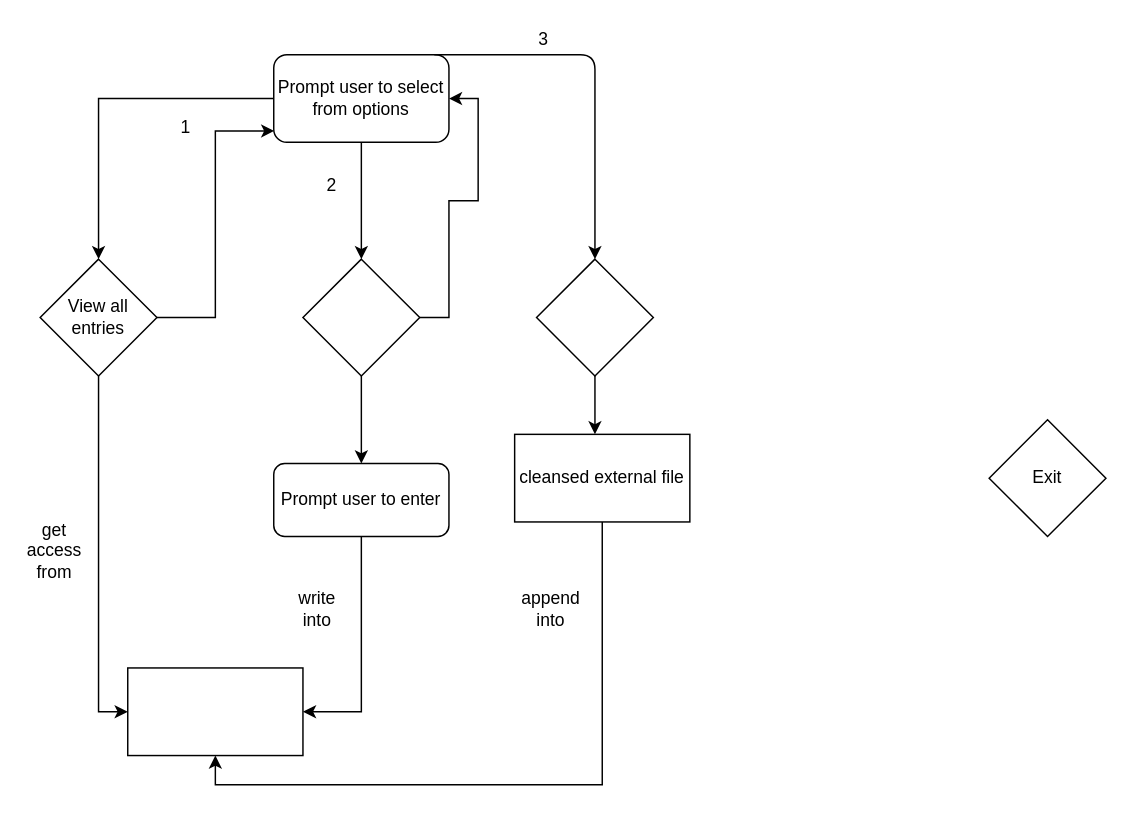
This 1132x822 diagram has some shape labels left out. Here are the shapes that lost their labels. From the top down, the centre of each, then its label:
At [360,317]: "Create entries".
At [594,317]: "import from CSV".
At [214,711]: "new_entries.csv".
